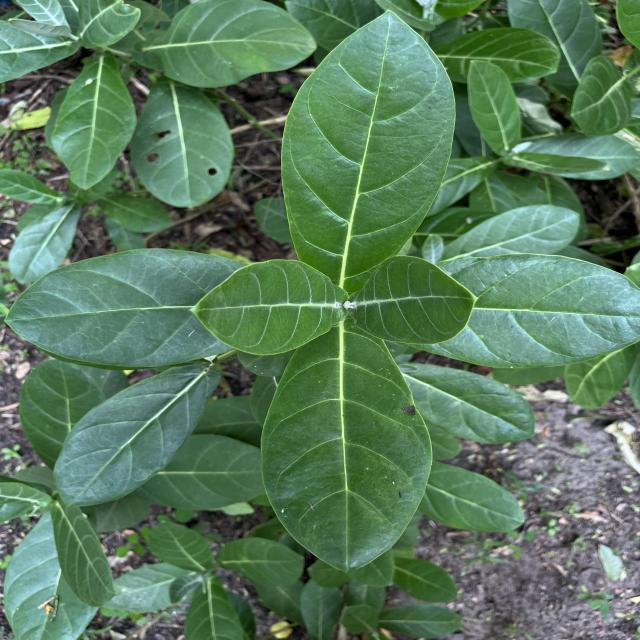Calotropis gigantea: (276, 6, 460, 275), (257, 330, 436, 576), (3, 243, 231, 371), (52, 363, 225, 510), (464, 250, 640, 372), (188, 258, 350, 360), (137, 0, 320, 89), (130, 76, 236, 212), (347, 252, 482, 346), (51, 52, 141, 192), (401, 362, 536, 445)
